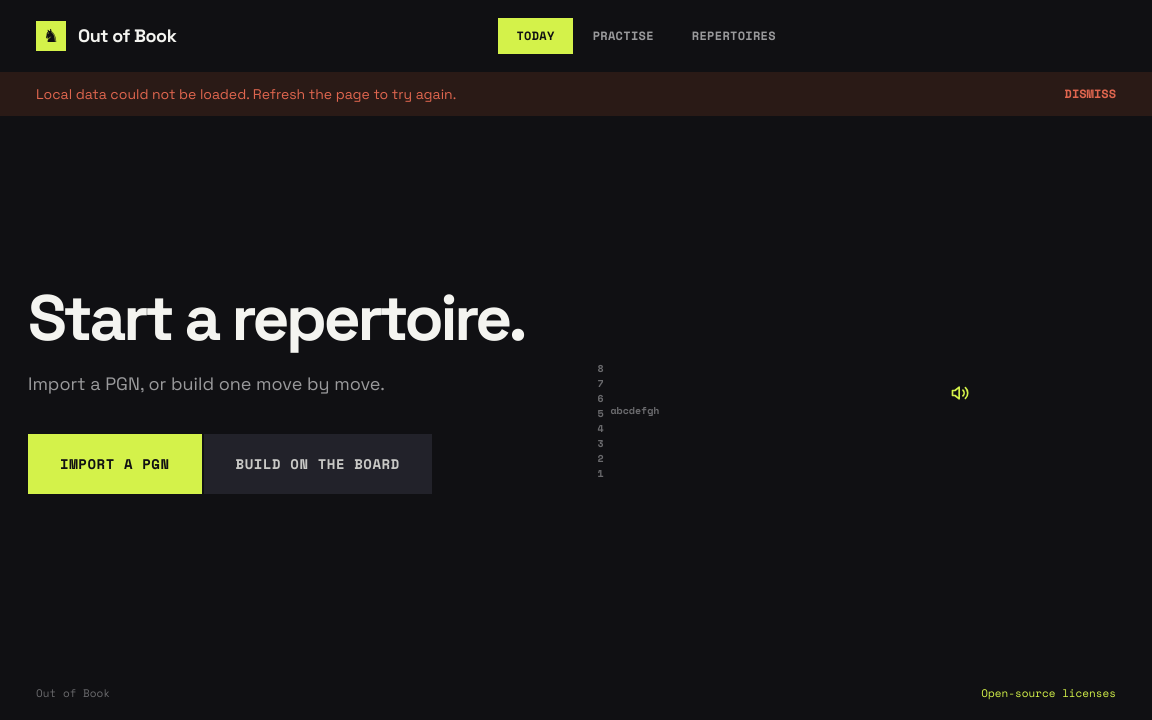
SparringApp › reports a storage failure without losing the screen
This screenshot has width=1152, height=720.
Expected: the message shows "could not be loaded", [36,84,456,102]
Click the button "Dismiss" at (1090, 94), box [1065,86,1116,102]
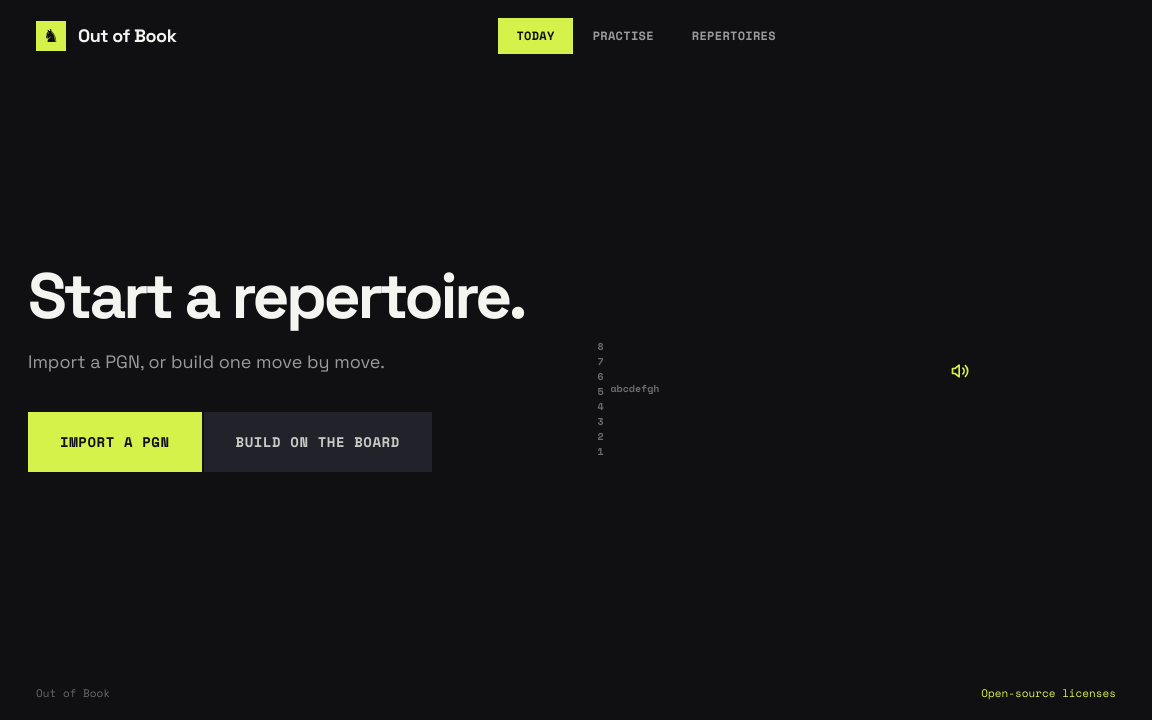
Expected: the message "Local data could not be loaded. Refresh the page to try again. Dismiss" is gone
